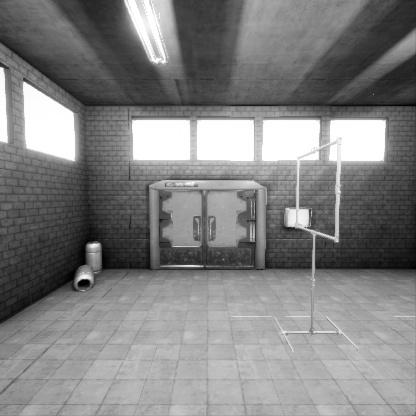gate: (296, 178, 342, 282)
